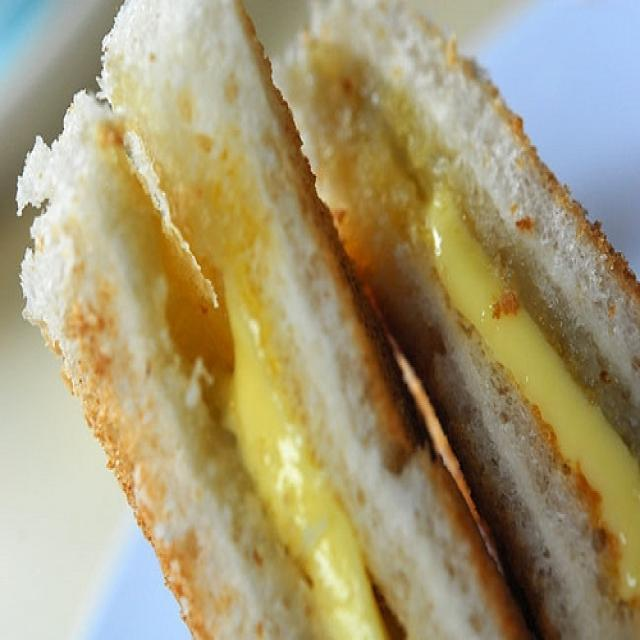面包点心: (15, 15, 626, 615)
